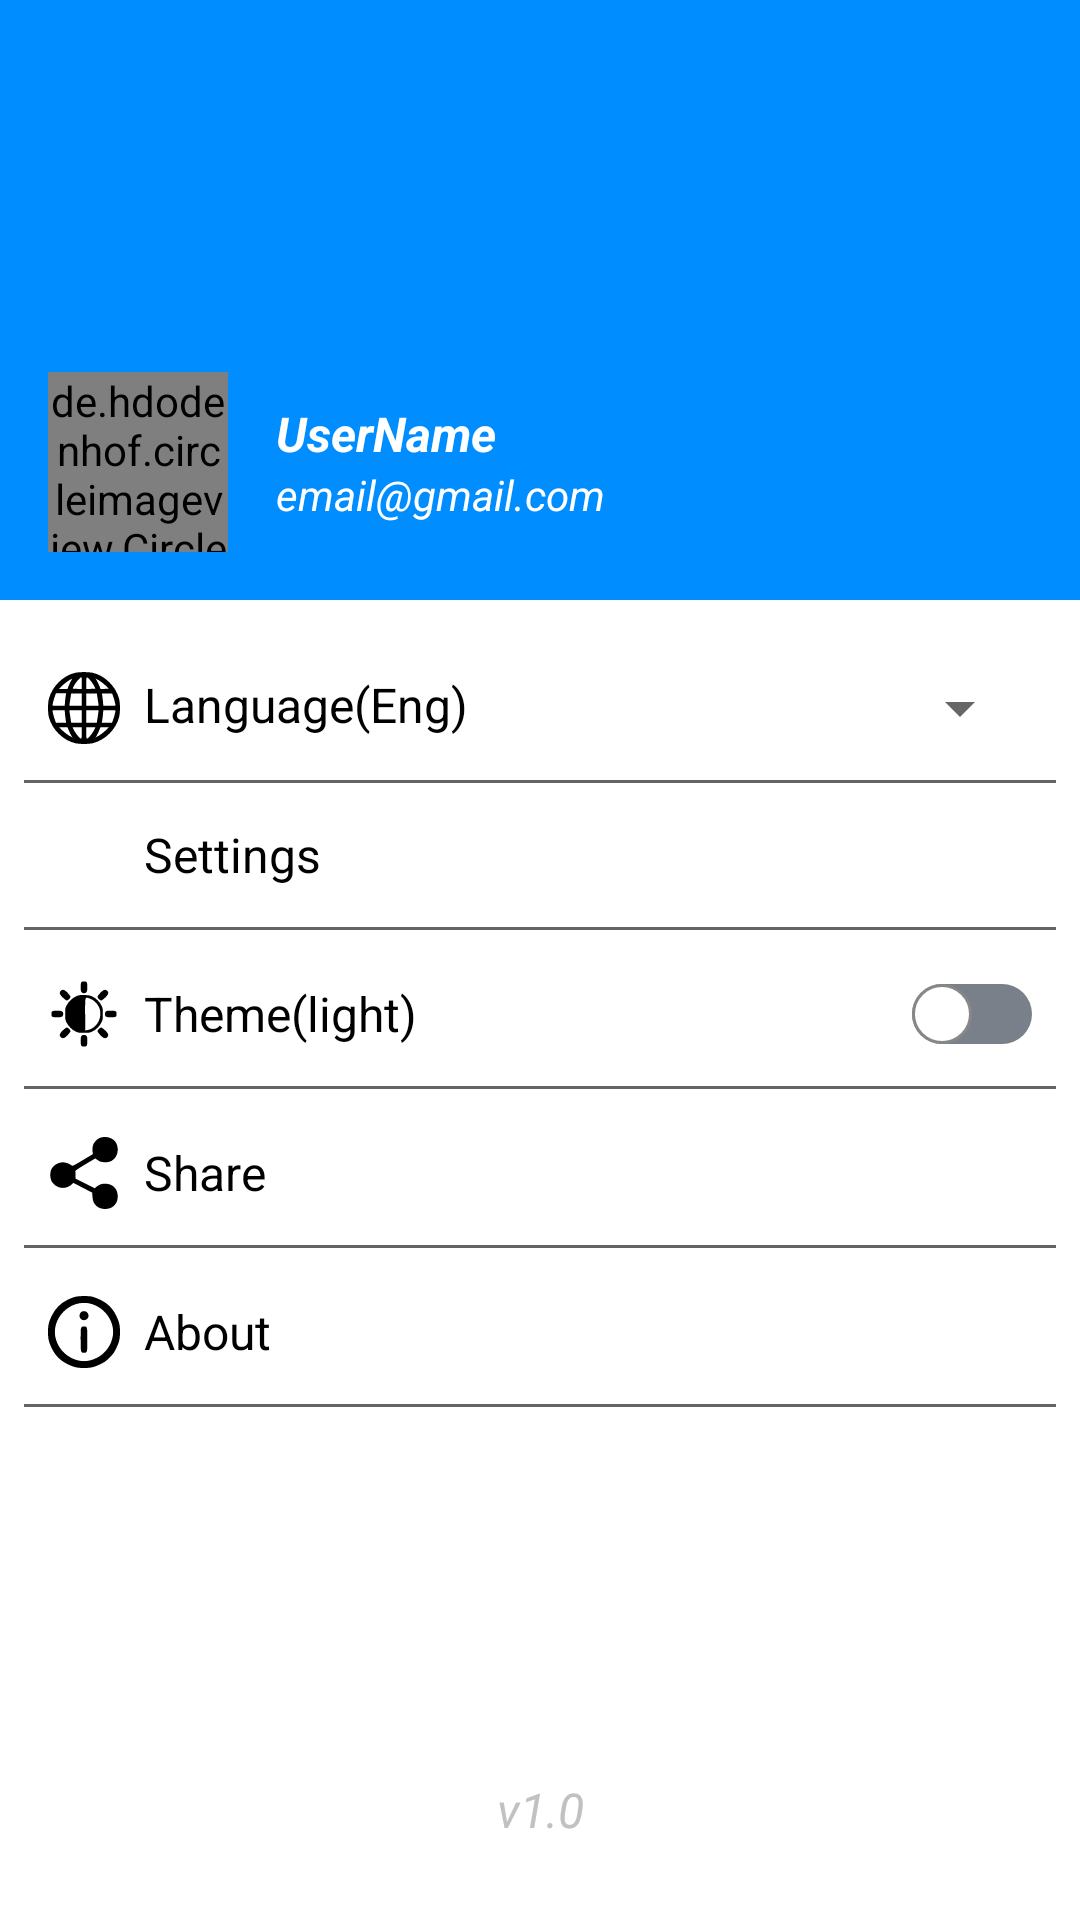

Locate icon controls on the screen. Image size 1080x1920, boxes as [x1=x1, y1=y1, x2=x2, y2=y2].
thema: [x1=51, y1=981, x2=117, y2=1047]
